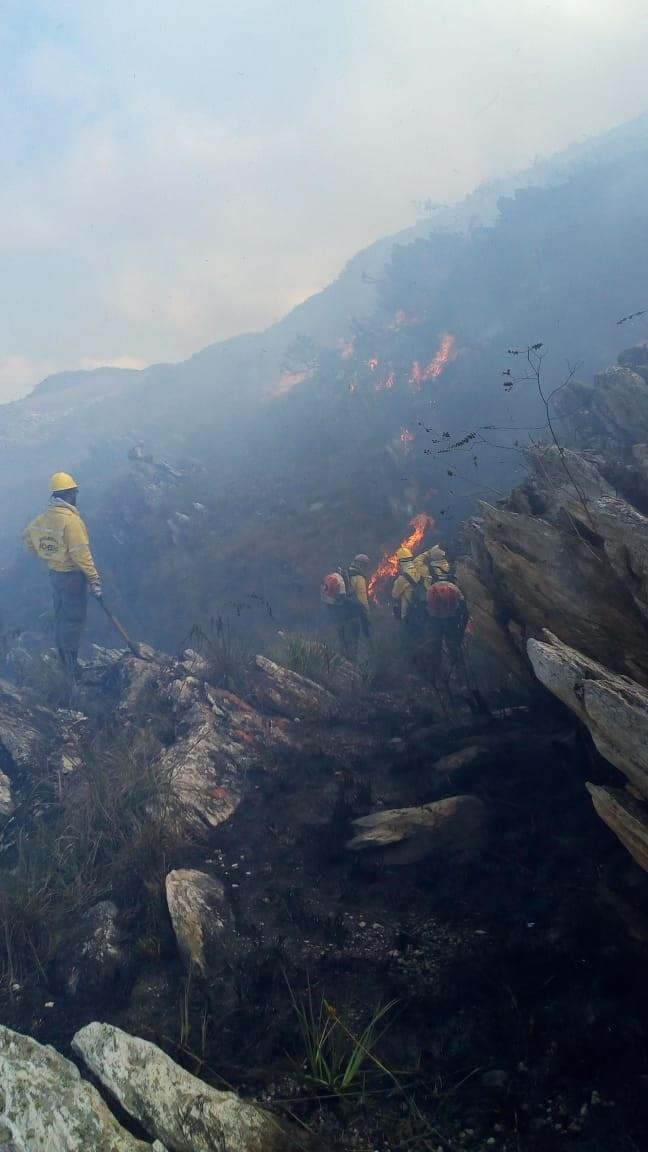Fire: (372, 522, 426, 591), (402, 337, 457, 388)
